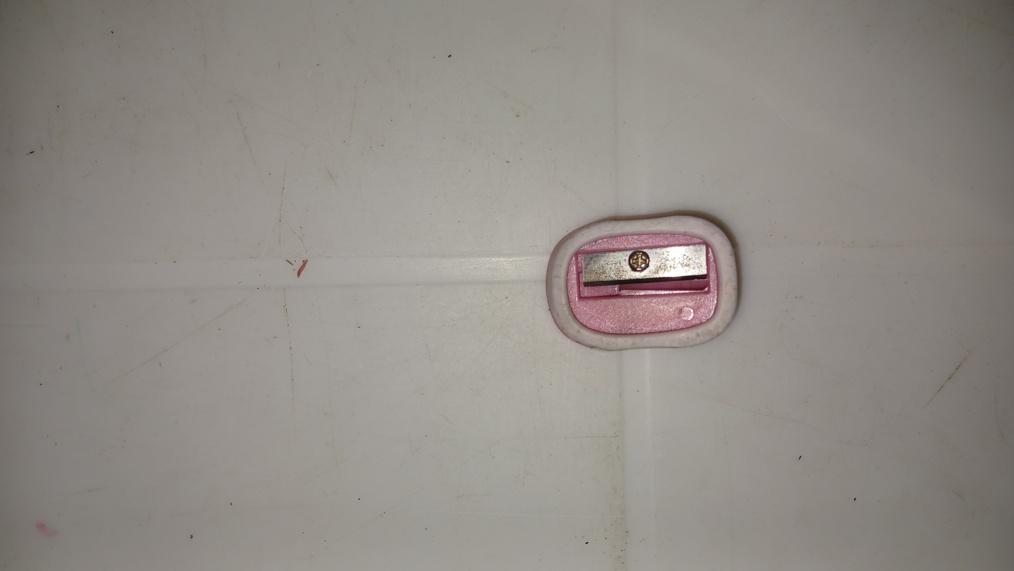Sharpener: (541, 214, 747, 351)
